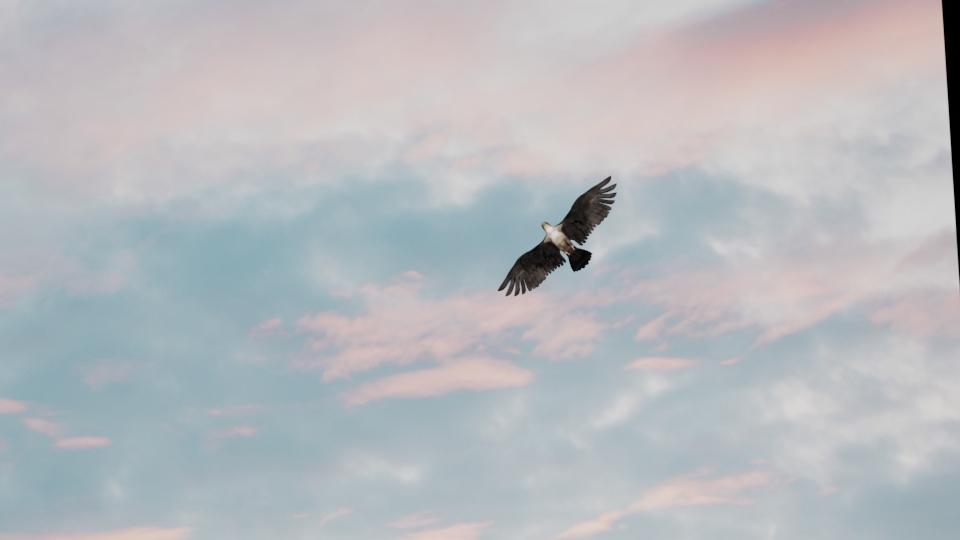bird: (497, 173, 615, 297)
